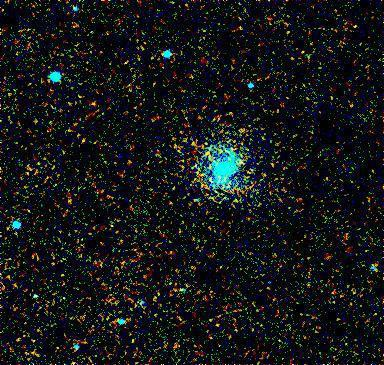star: (227, 150, 257, 180)
